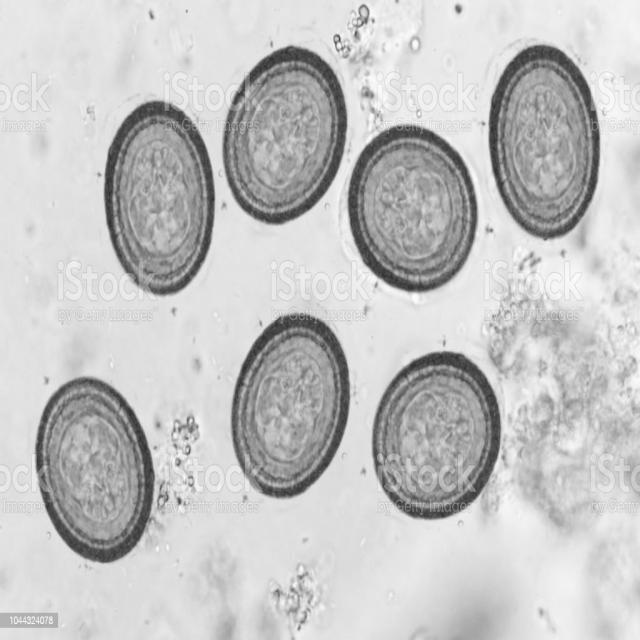Taenia Sp: (483, 34, 607, 246), (366, 347, 506, 528), (229, 306, 353, 509), (220, 34, 347, 232), (97, 92, 217, 297), (346, 114, 480, 293), (33, 369, 156, 559)
